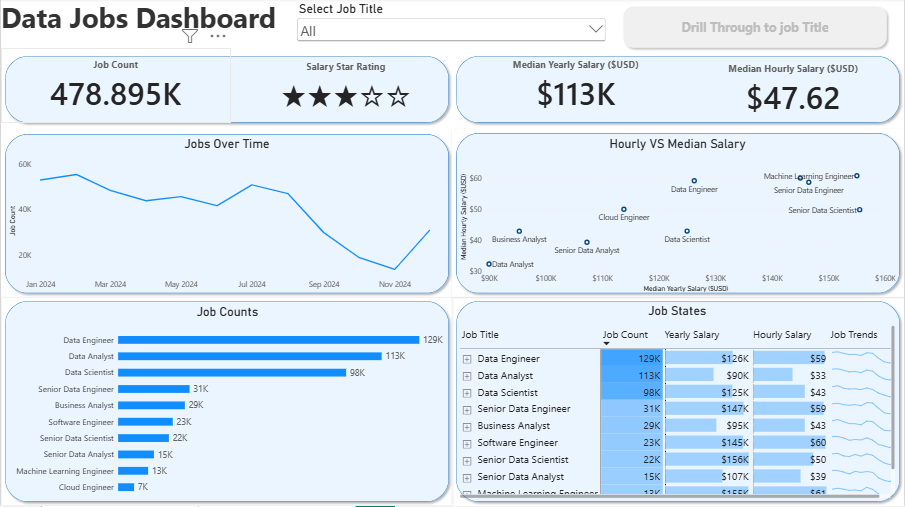

The page's visual inventory and layout, read from the dashboard file:
{"tool":"powerbi","page":{"name":"Data Jobs Dashboard","canvas":[1920,1080],"ordinal":0},"visuals":[{"type":"group","id":"g1","title":"Background","box":[0,114.8,1920,965.2],"z":0},{"type":"shape","box":[0,114.8,960.9,159.4],"z":0,"group":"g1"},{"type":"textbox","box":[0,0,599.5,114.8],"z":1000},{"type":"shape","box":[958.8,114.8,960.9,159.4],"z":1000,"group":"g1"},{"type":"slicer","fields":{"Values":["job_postings_flat.job_title_short"]},"box":[625,6.4,665.4,99.9],"z":2000},{"type":"shape","box":[0,280.4,961.1,356.1],"z":2000,"group":"g1"},{"type":"cardVisual","fields":{"Data":["job_postings_flat.Salary Star Rating"]},"box":[489.1,107.3,489.1,167.3],"z":3000},{"type":"shape","box":[958.9,278.3,961.1,358.3],"z":3000,"group":"g1"},{"type":"cardVisual","fields":{"Data":["Median(job_postings_flat.salary_hour_avg)"]},"box":[1449.9,114.8,469.8,159.4],"z":4000},{"type":"shape","box":[0,635.7,960.9,444.3],"z":4000,"group":"g1"},{"type":"cardVisual","fields":{"Data":["CountNonNull(job_postings_flat.job_title_short)"]},"box":[0,106.3,489,159.4],"z":5000},{"type":"shape","box":[958.8,635.7,960.9,444.3],"z":5000,"group":"g1"},{"type":"cardVisual","fields":{"Data":["Median(job_postings_flat.salary_year_avg)"]},"box":[978.2,107.3,489,159.4],"z":6000},{"type":"lineChart","title":"Jobs Over Time","fields":{"Category":["job_postings_flat.job_posted_date.Variation.Date Hierarchy.Year","job_postings_flat.job_posted_date.Variation.Date Hierarchy.Quarter","job_postings_flat.job_posted_date.Variation.Date Hierarchy.Month","job_postings_flat.job_posted_date.Variation.Date Hierarchy.Day"],"Y":["CountNonNull(job_postings_flat.job_title_short)"]},"box":[0,281,961.1,360.4],"z":7000},{"type":"barChart","title":"Job Counts","fields":{"Category":["job_postings_flat.job_title_short"],"Y":["CountNonNull(job_postings_flat.job_title_short)"]},"box":[0,635.7,960.9,444.3],"z":8000},{"type":"scatterChart","title":"Hourly VS Median Salary","fields":{"Series":["job_postings_flat.job_title_short"],"X":["Median(job_postings_flat.salary_year_avg)"],"Y":["Median(job_postings_flat.salary_hour_avg)"]},"box":[958.9,281,958.9,360.4],"z":9000},{"type":"pivotTable","title":"Job States","fields":{"Rows":["job_postings_flat.job_title_short","job_postings_flat.job_posted_date.Variation.Date Hierarchy.Quarter"],"Values":["CountNonNull(job_postings_flat.job_title_short)","Median(job_postings_flat.salary_year_avg)","Median(job_postings_flat.salary_hour_avg)","SparklineData(CountNonNull(job_postings_flat.job_title_short)_[job_postings_flat.job_posted_date.Variation.Date Hierarch"]},"box":[957.9,636.4,957.9,443.6],"z":10000},{"type":"actionButton","box":[1313.9,8.5,578.3,106.3],"z":11000}]}

Visuals, with their boxes in screenshot pixels (x1, y1, x2, y2), scaled from the page's 1920x1080 canvas onto the 905x507 screenshot:
"Background" group: (0,54,904,506)
shape: (0,54,453,129)
textbox: (0,0,283,54)
shape: (452,54,904,129)
slicer - job_postings_flat.job_title_short: (295,3,608,50)
shape: (0,132,453,299)
cardVisual - job_postings_flat.Salary Star Rating: (231,50,461,129)
shape: (452,131,904,299)
cardVisual - Median(job_postings_flat.salary_hour_avg): (683,54,904,129)
shape: (0,298,453,506)
cardVisual - CountNonNull(job_postings_flat.job_title_short): (0,50,230,125)
shape: (452,298,904,506)
cardVisual - Median(job_postings_flat.salary_year_avg): (461,50,692,125)
"Jobs Over Time" lineChart: (0,132,453,301)
"Job Counts" barChart: (0,298,453,506)
"Hourly VS Median Salary" scatterChart: (452,132,904,301)
"Job States" pivotTable: (452,299,903,506)
actionButton: (619,4,892,54)
